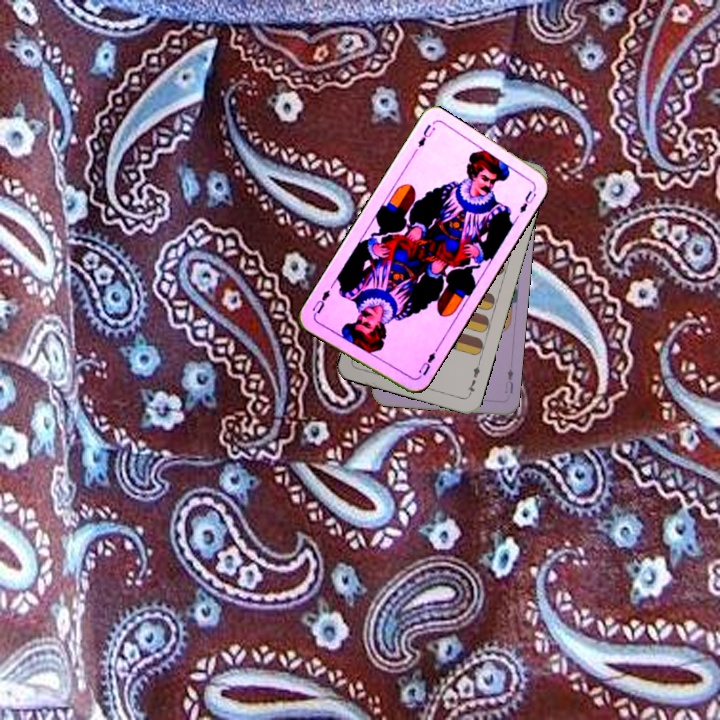E7: (464, 359, 483, 398)
EU: (413, 345, 440, 381), (414, 120, 438, 150), (501, 365, 516, 396)
